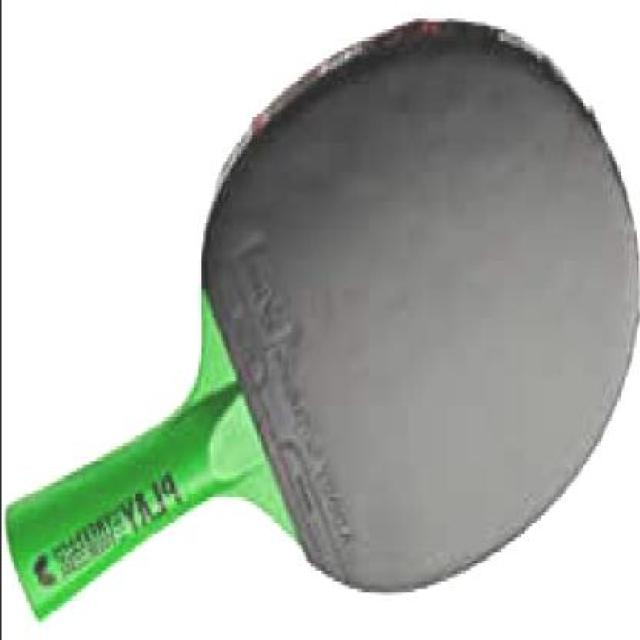table_tennis_racket: (6, 20, 640, 623)
